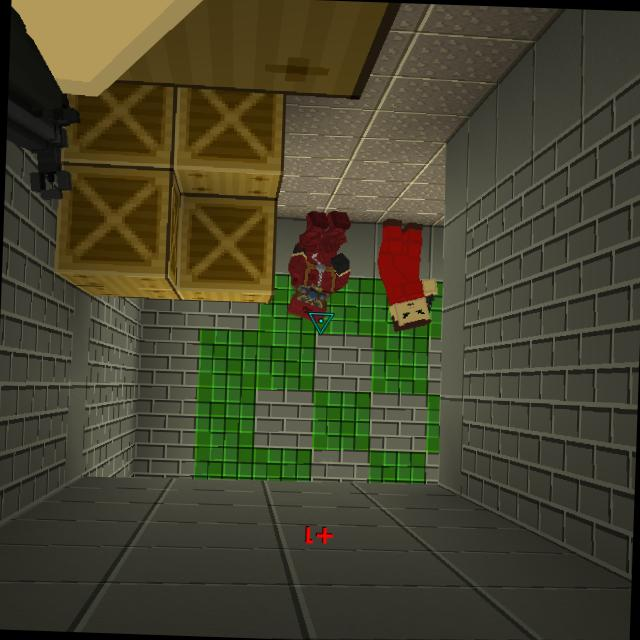enemy: (376, 217, 442, 334)
